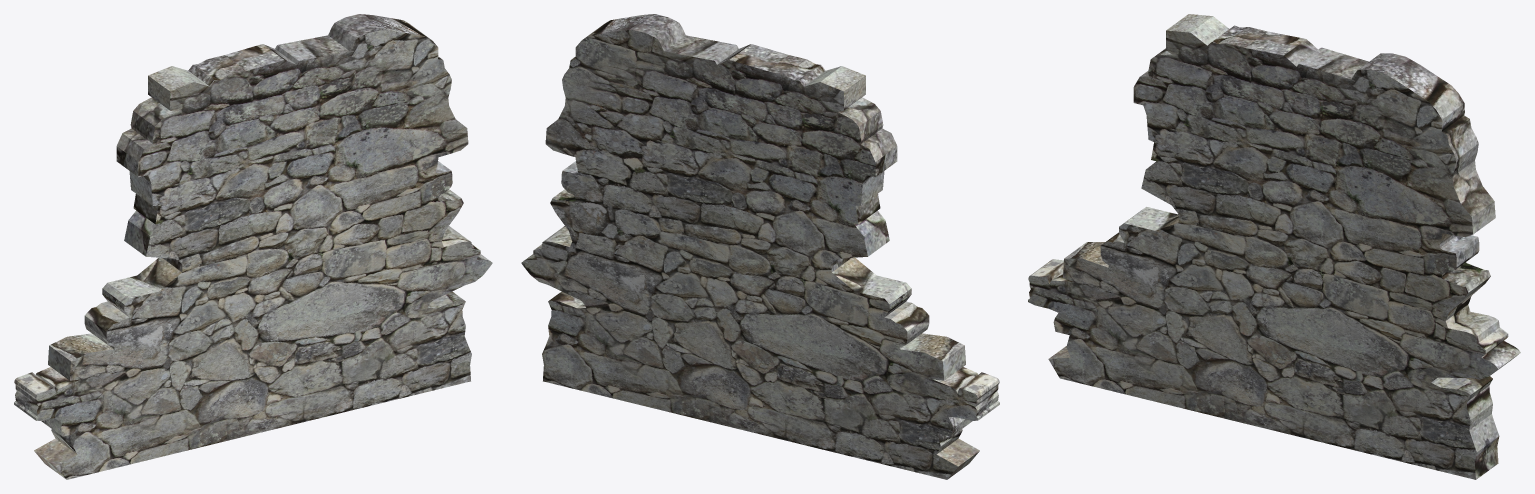
The model's file is ruinwall3.FBX.
3 views of the same model, side by side, from view 1: azimuth 30°, elevation 25°; view 2: azimuth 150°, elevation 25°; view 3: azimuth 330°, elevation 25° (orthographic). The views are drawn at different scales.
Visible parts, largest first — view 1: Mesh3; view 2: Mesh3; view 3: Mesh3.
Boxes of the visible parts, x1=… form: Mesh3: x1=14, y1=14, x2=492, y2=479; Mesh3: x1=521, y1=14, x2=999, y2=479; Mesh3: x1=1028, y1=14, x2=1520, y2=479.
Bounding box in the file's own units: 24.55 × 19.17 × 2.04.
